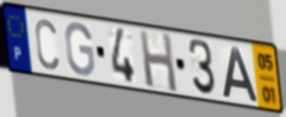3: (187, 38, 218, 98)
4: (110, 26, 138, 85)
A: (221, 44, 260, 103)
C: (33, 16, 61, 72)
G: (63, 19, 96, 78)
H: (137, 28, 180, 95)
